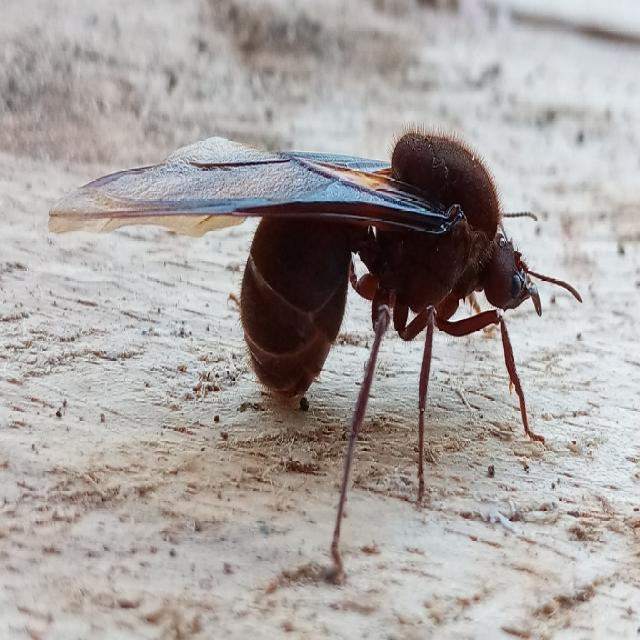Alive-Female-Alate: (48, 119, 583, 583)
